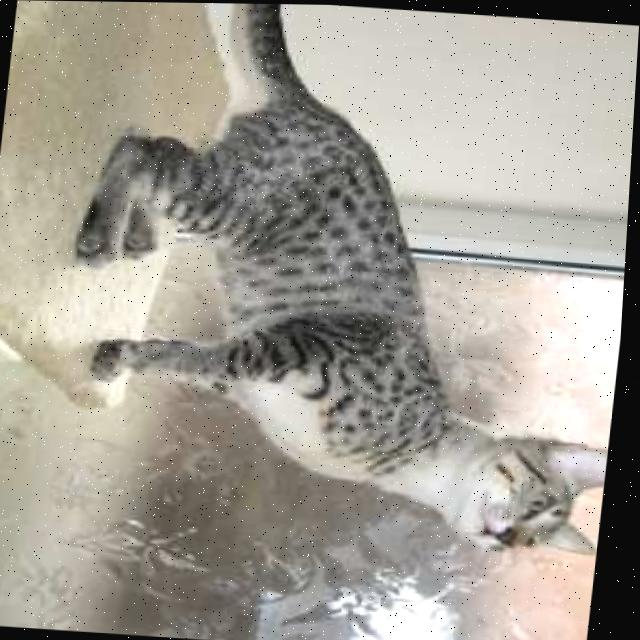Egyptian Mau: (46, 1, 640, 560)
